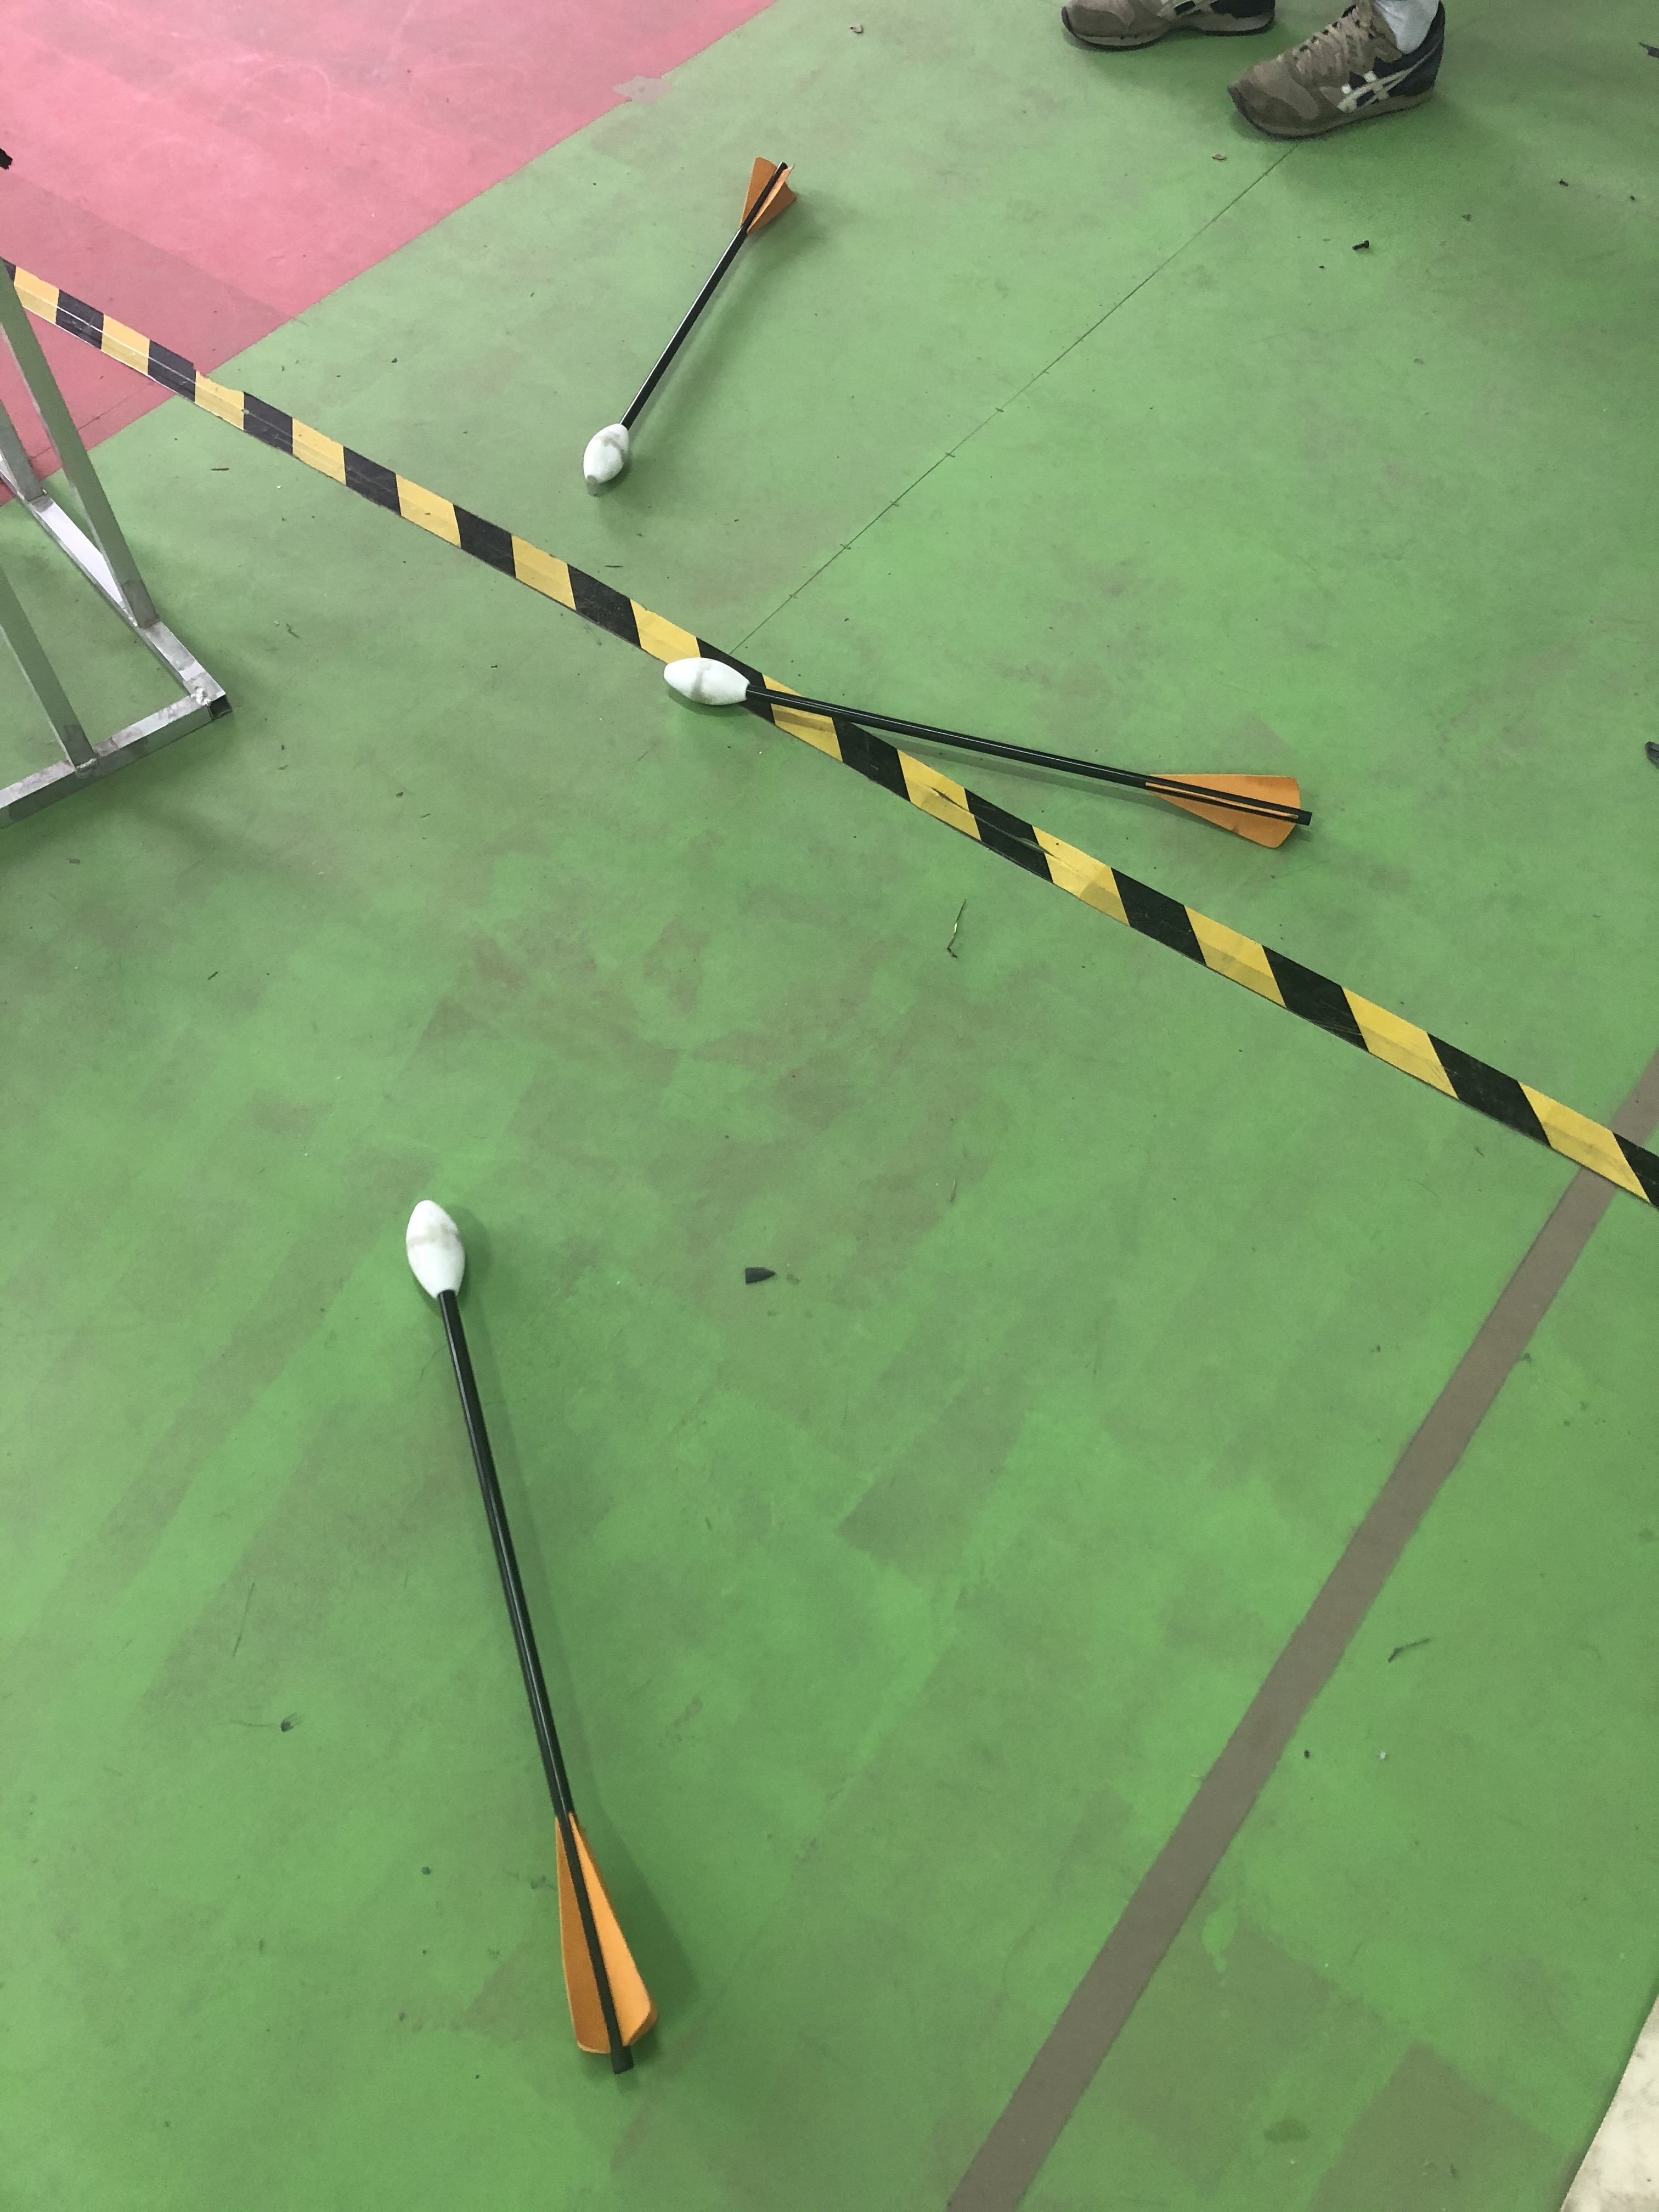arrow: (403, 1197, 655, 2073), (657, 651, 1317, 857), (579, 155, 807, 491)
arrowFront: (410, 1197, 469, 1308), (666, 657, 756, 711), (582, 416, 638, 488)
